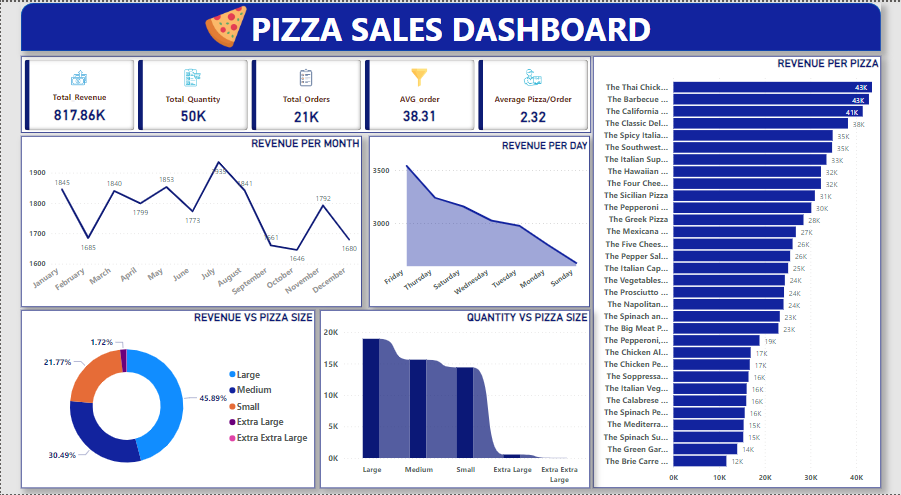

Layout of this report page (visuals, bound fields, positions):
{"tool":"powerbi","page":{"name":"Page 1","canvas":[1500,820],"ordinal":0},"visuals":[{"type":"lineChart","title":"REVENUE PER MONTH","fields":{"Category":["pizza_sales.order_date.Variation.Date Hierarchy.Month"],"Y":["pizza_sales.Total_Orders"]},"box":[33.3,223.3,568.3,285],"z":0},{"type":"cardVisual","fields":{"Data":["pizza_sales.Total_Revenue","pizza_sales.Total_Quantity","pizza_sales.Total_Orders","pizza_sales.AVG_order","pizza_sales.avg_pizza_per_order"]},"box":[33.3,90,950,128.3],"z":1000},{"type":"stackedAreaChart","title":"REVENUE PER DAY","fields":{"Category":["pizza_sales.Day Name"],"Y":["pizza_sales.Total_Orders"]},"box":[613.3,223.3,368.3,285],"z":2000},{"type":"shape","box":[33.3,1.7,1433.3,80],"z":3000},{"type":"clusteredBarChart","title":"REVENUE PER PIZZA","fields":{"Category":["pizza_sales.pizza_name"],"Y":["pizza_sales.Total_Revenue"]},"box":[986.7,90,480,720],"z":4000},{"type":"donutChart","title":"REVENUE VS PIZZA SIZE","fields":{"Category":["pizza_sales.pizza_size"],"Y":["Divide(pizza_sales.Total_Revenue, ScopedEval(pizza_sales.Total_Revenue, [Role.Columns]))"]},"box":[33.3,513.3,490,296.7],"z":5000},{"type":"ribbonChart","title":"QUANTITY VS PIZZA SIZE","fields":{"Category":["pizza_sales.pizza_size"],"Y":["Sum(pizza_sales.quantity)"]},"box":[531.7,513.3,450,296.7],"z":6000},{"type":"image","box":[330,0,90,81.7],"z":7000}]}

Visuals, with their boxes in screenshot pixels (x1, y1, x2, y2), scaled from the page's 1500x820 canvas onto the 901x495 screenshot:
"REVENUE PER MONTH" lineChart: [20, 135, 361, 307]
cardVisual - pizza_sales.Total_Revenue x pizza_sales.Total_Quantity: [20, 54, 591, 132]
"REVENUE PER DAY" stackedAreaChart: [368, 135, 590, 307]
shape: [20, 1, 881, 49]
"REVENUE PER PIZZA" clusteredBarChart: [593, 54, 881, 489]
"REVENUE VS PIZZA SIZE" donutChart: [20, 310, 314, 489]
"QUANTITY VS PIZZA SIZE" ribbonChart: [319, 310, 590, 489]
image: [198, 0, 252, 49]
